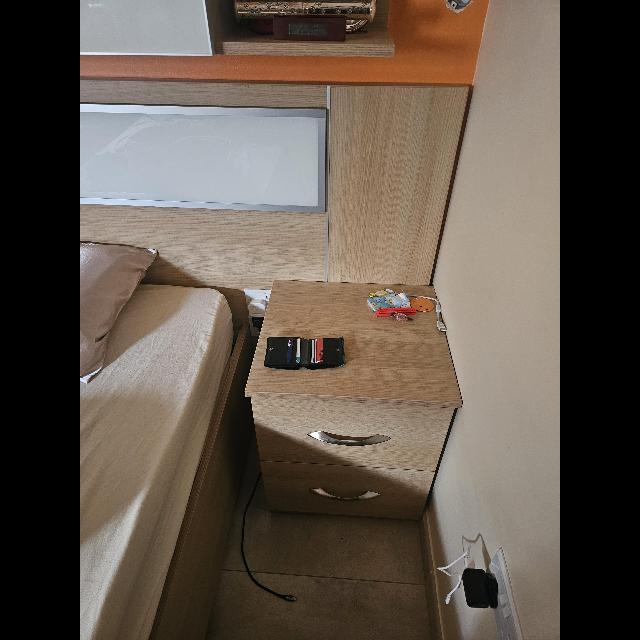Wallet: (264, 336, 346, 369)
